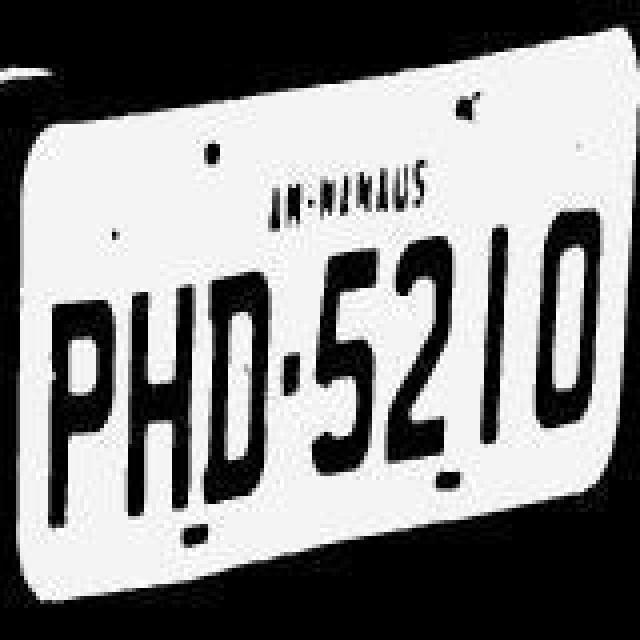1: (476, 202, 516, 446)
2: (382, 236, 458, 468)
5: (308, 248, 380, 472)
D: (202, 264, 278, 504)
H: (122, 278, 198, 522)
O: (534, 212, 602, 428)
P: (40, 286, 120, 546)
